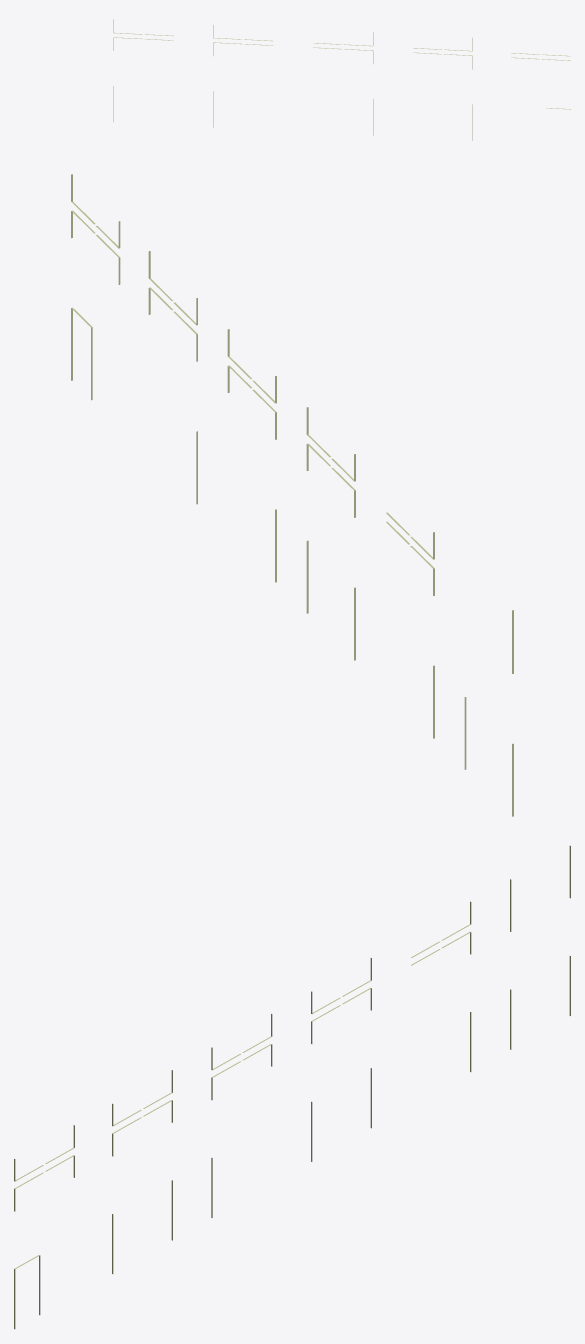
The model's file is NoLod_0.glb.
3 views of the same model, one above another, from view 1: azimuth 30°, elevation 25°; view 2: azimuth 150°, elevation 25°; view 3: azimuth 270°, elevation 25° (orthographic). The views are drawn at different scales.
Visible parts, largest first — view 1: rtc; view 2: rtc; view 3: rtc.
Boxes of the visible parts, x1,y1,x2,y2 form: rtc: (113,19,570,140); rtc: (71,174,513,816); rtc: (14,845,570,1329).
Size of the model in its own units: 26.84 by 6.8 by 20.14.
